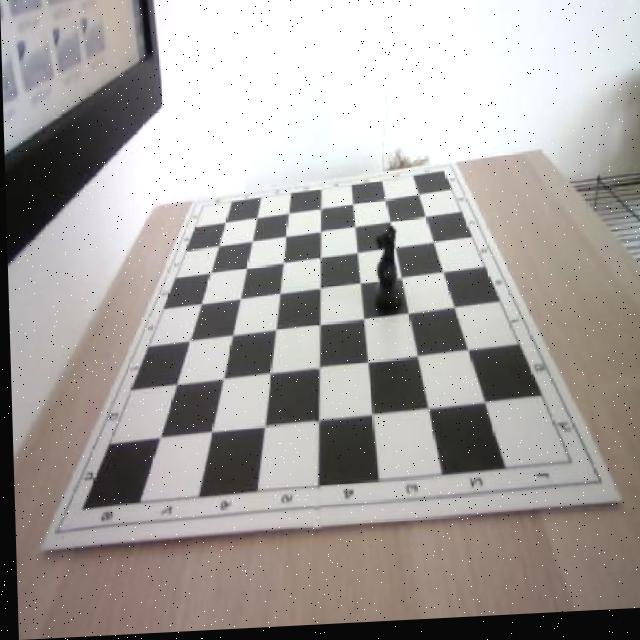black-king: (369, 228, 402, 321)
